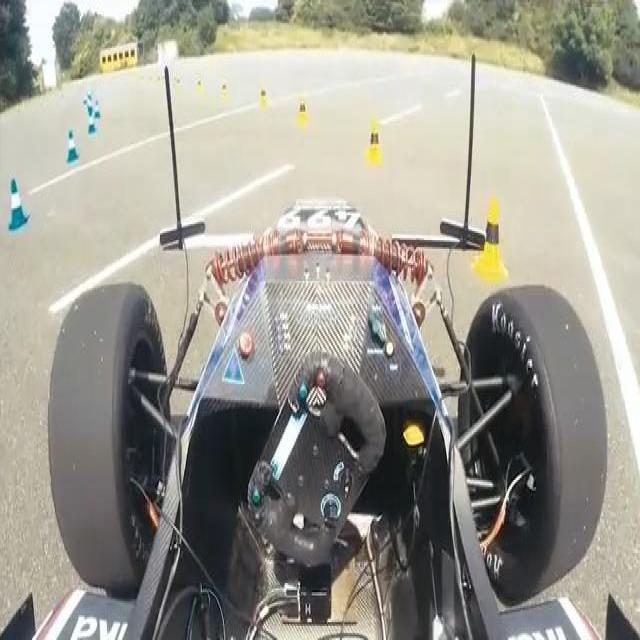blue_cone: (6, 174, 30, 235), (62, 126, 79, 165), (87, 112, 96, 134), (85, 98, 94, 118), (93, 99, 101, 120)
yellow_cone: (473, 197, 511, 285), (364, 116, 385, 171), (296, 94, 311, 130), (258, 85, 270, 109)
